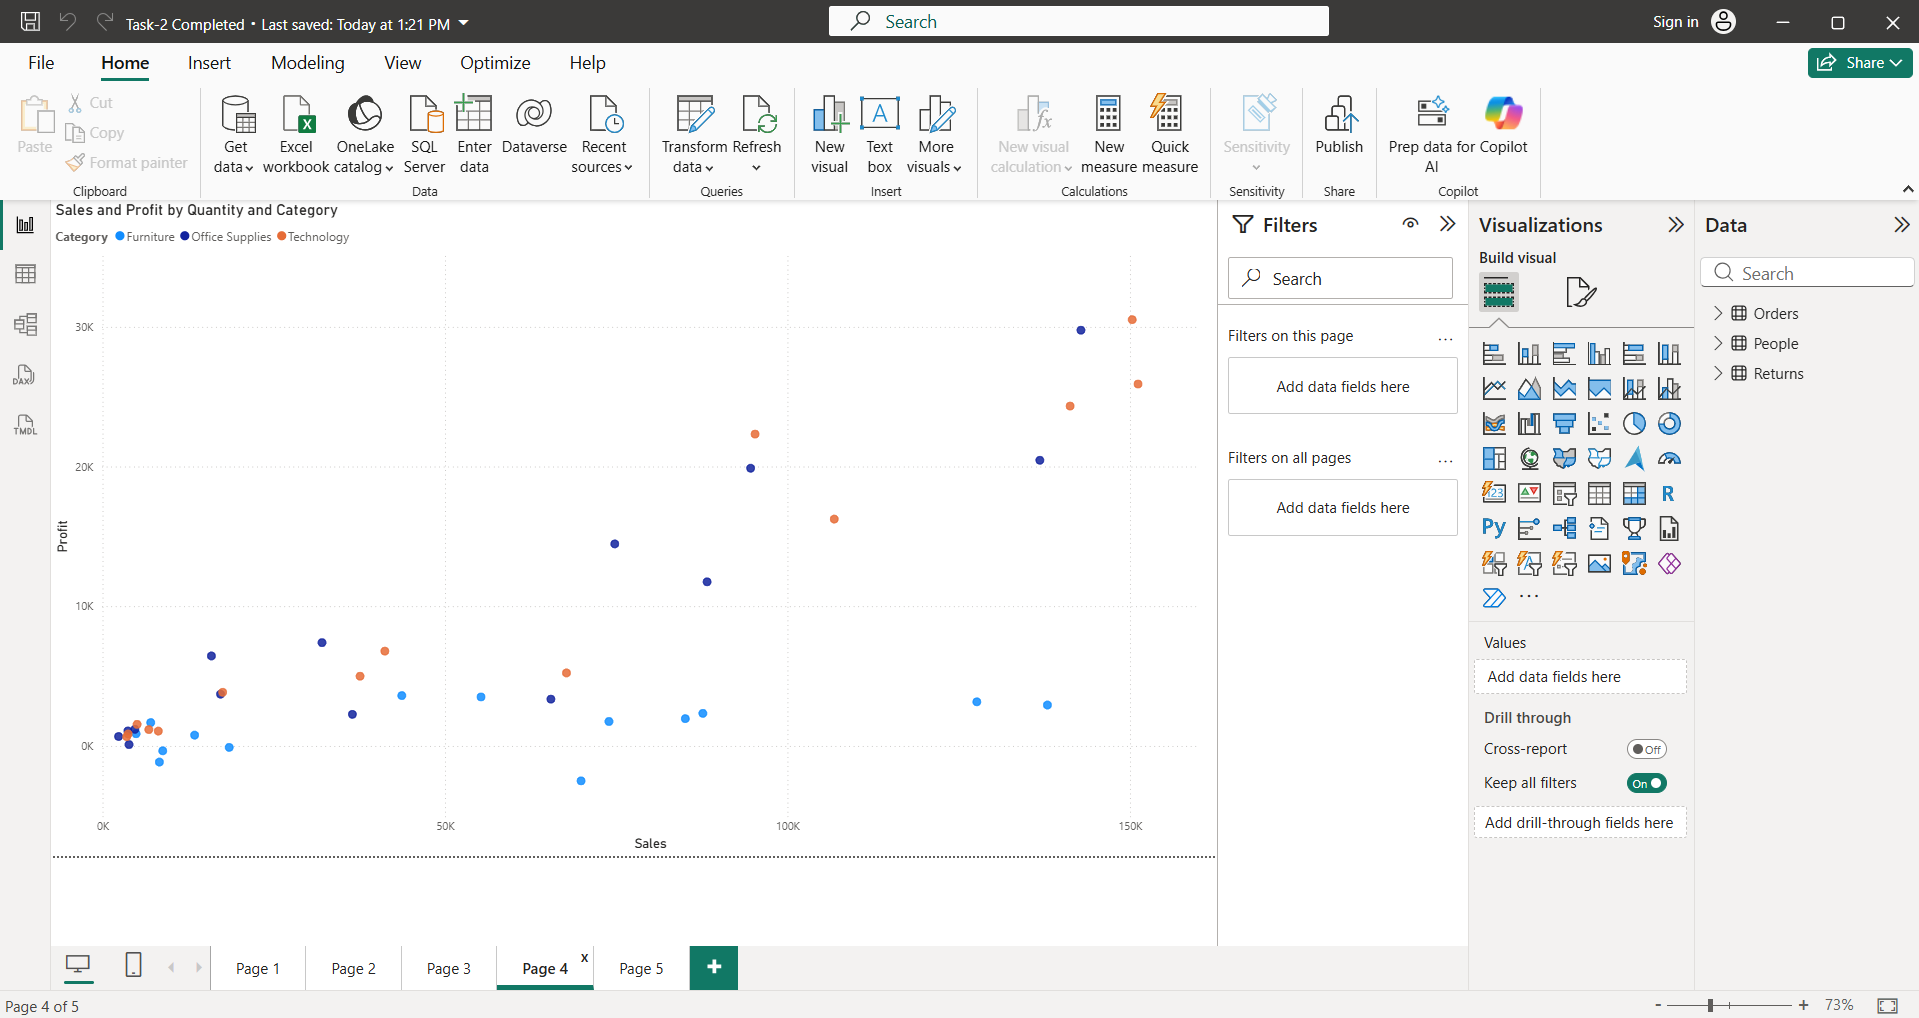

The dashboard page shown, as its layout file describes it:
{"tool":"powerbi","page":{"name":"Page 4","canvas":[1280,720],"ordinal":3},"visuals":[{"type":"scatterChart","fields":{"Category":["Orders.Quantity"],"Series":["Orders.Category"],"X":["Sum(Orders.Sales)"],"Y":["Sum(Orders.Profit)"]},"box":[0,0,1278.8,719.7],"z":0}]}

Visuals, with their boxes on the page's 1280x720 design canvas (x1, y1, x2, y2). These are canvas units, not pixel positions in the 1919x1018 screenshot, which may show the page scaled, cropped or inside an application window:
scatterChart - Orders.Quantity x Orders.Category: x1=0, y1=0, x2=1279, y2=720
